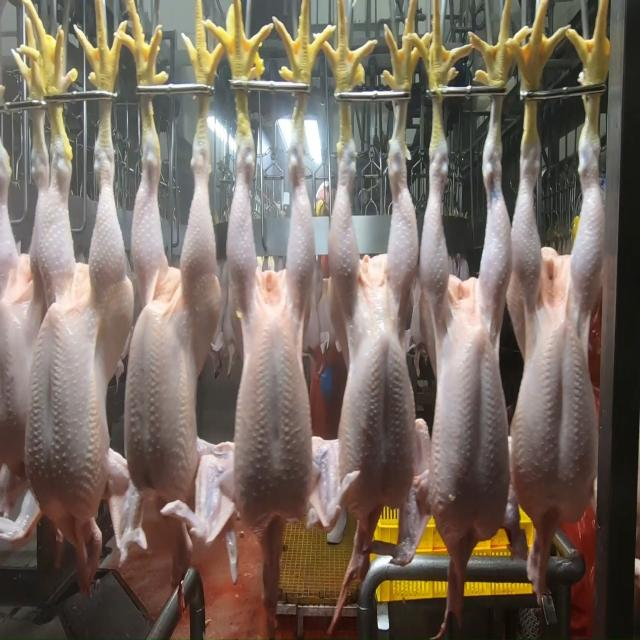chicken: (32, 122, 135, 534), (510, 115, 603, 534), (122, 123, 221, 513), (419, 143, 515, 534), (329, 146, 422, 530), (233, 133, 320, 542), (1, 136, 44, 493)
